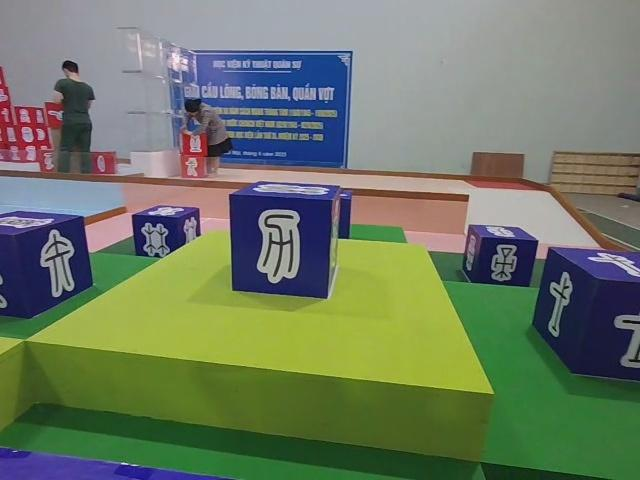R2 Fake Blue: (228, 182, 339, 301), (2, 213, 95, 323)
R2 Real Blue: (532, 248, 639, 390), (462, 226, 539, 289), (130, 204, 200, 258)
